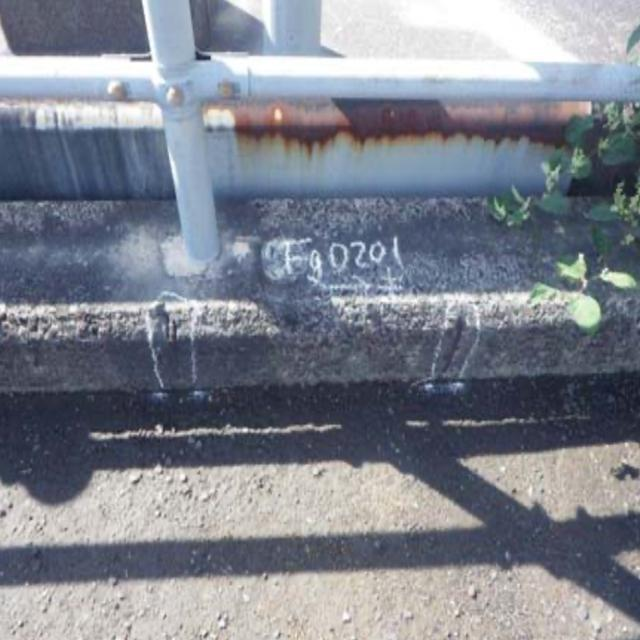corrosion: (223, 77, 607, 149)
